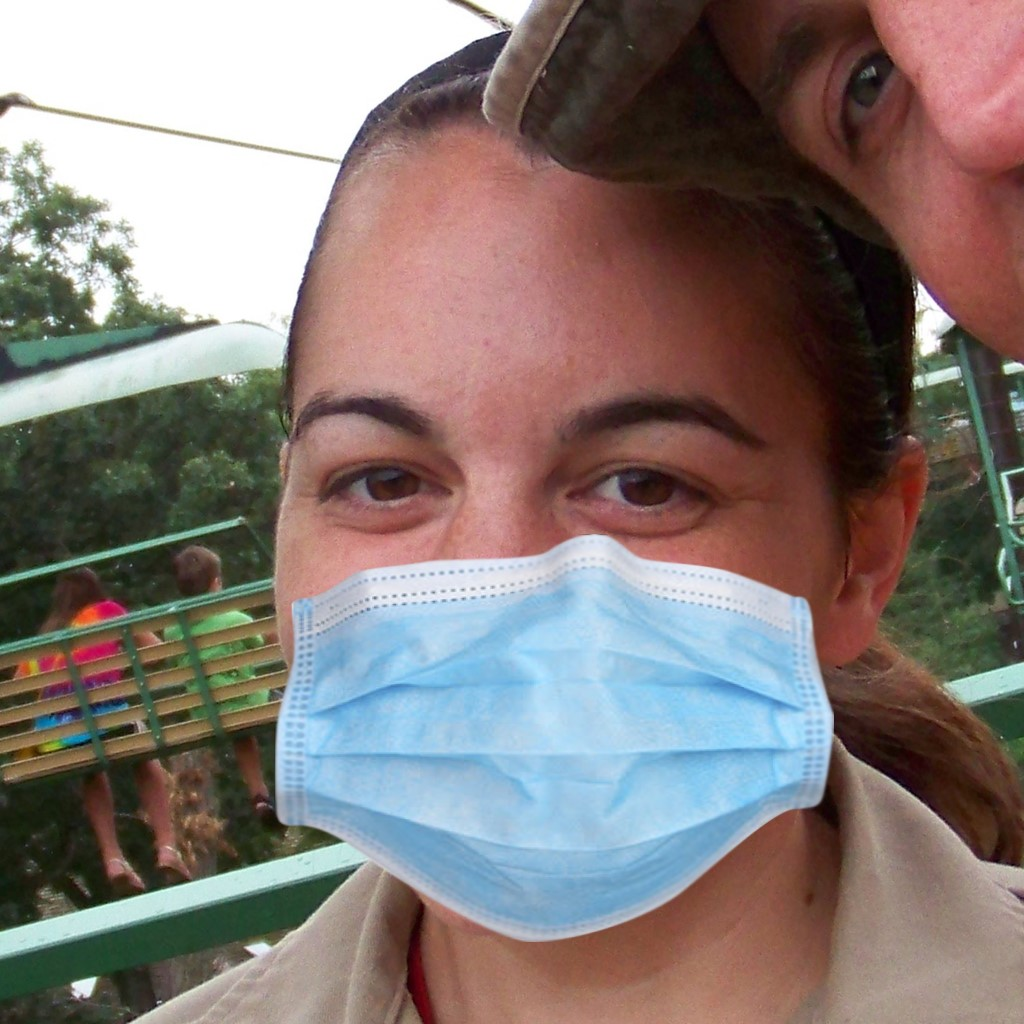con_mascara: (281, 113, 830, 941)
